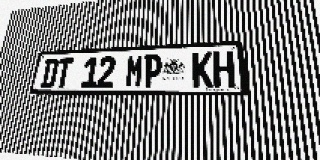1: (80, 57, 100, 88)
2: (96, 56, 116, 88)
D: (40, 58, 59, 88)
H: (213, 51, 235, 88)
K: (193, 52, 213, 88)
M: (125, 55, 144, 88)
P: (143, 54, 162, 88)
T: (54, 58, 74, 88)
